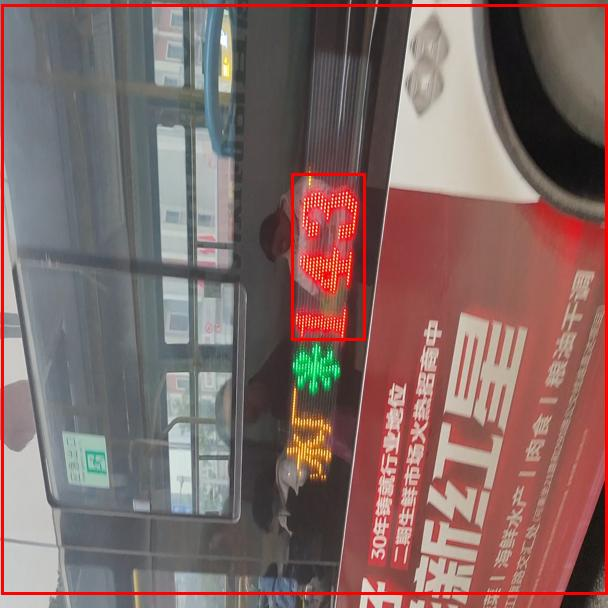bus: (1, 4, 607, 594)
screen: (291, 173, 365, 340)
